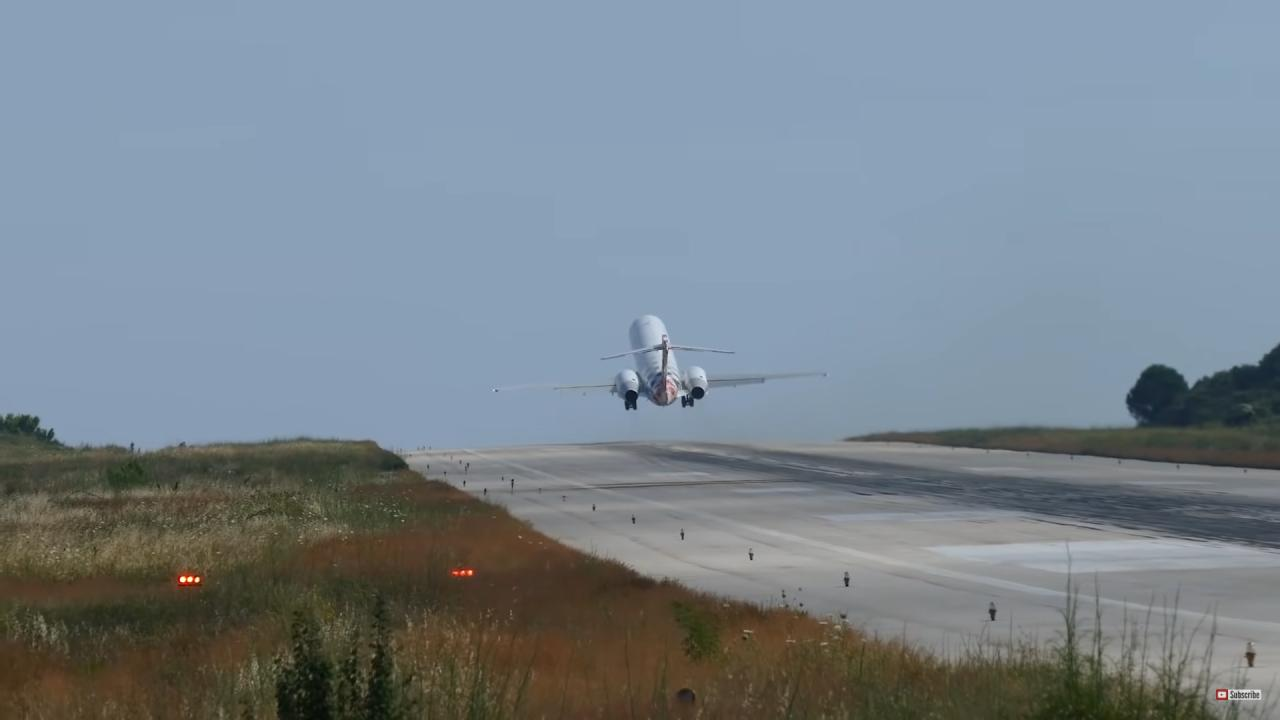Airplane: (474, 300, 843, 423)
